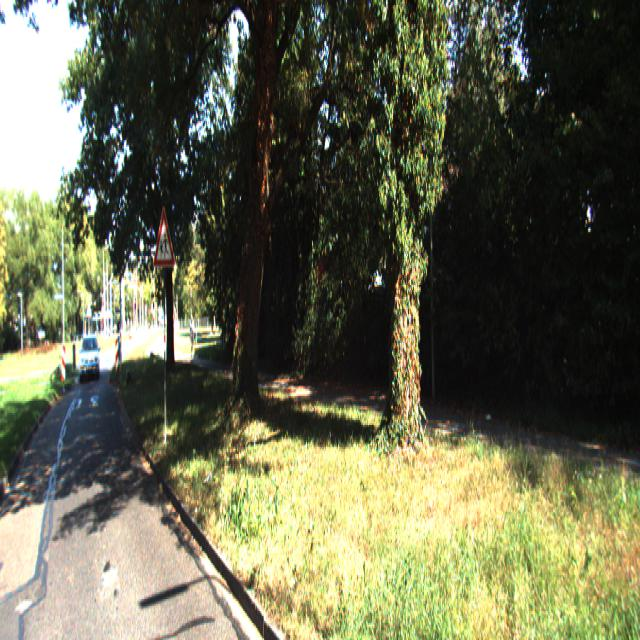Car: (79, 335, 97, 385)
